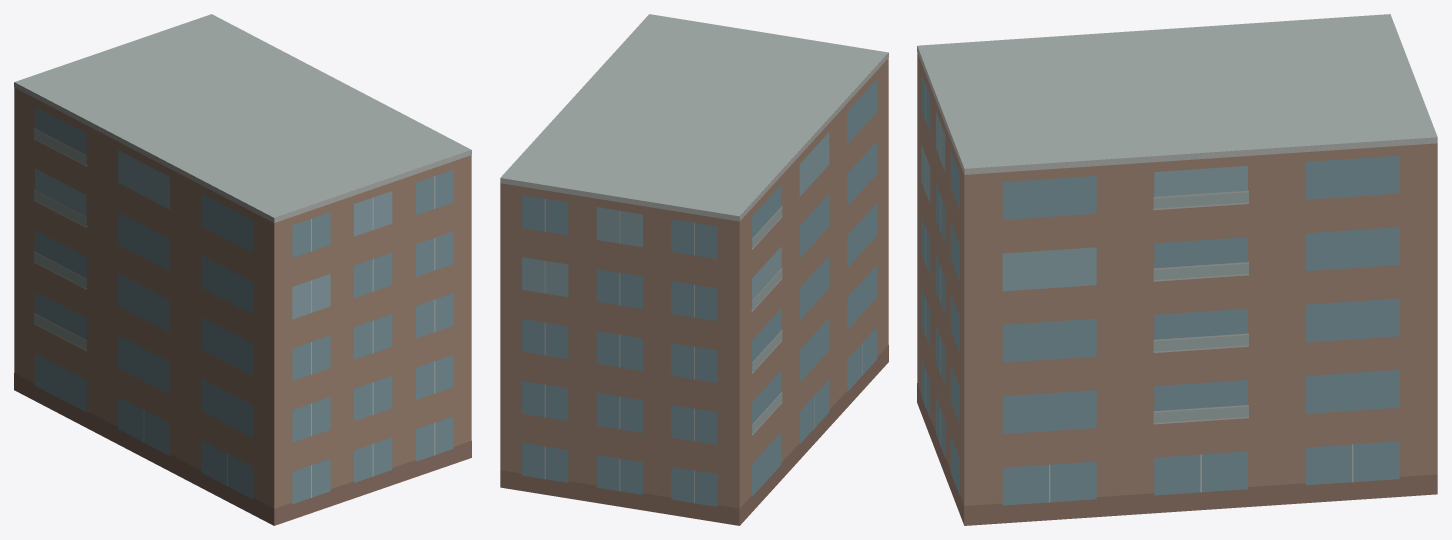
File: survey-upis-32614612.glb
3 views of the same model, side by side, from view 1: azimuth 30°, elevation 25°; view 2: azimuth 150°, elevation 25°; view 3: azimuth 270°, elevation 25° (orthographic). The views are drawn at different scales.
Visible parts, largest first — view 1: survey-upis-32614612.tmp; view 2: survey-upis-32614612.tmp; view 3: survey-upis-32614612.tmp.
Part boxes in pixels (left/top/right/bottom): survey-upis-32614612.tmp: left=14, top=14, right=471, bottom=525; survey-upis-32614612.tmp: left=500, top=14, right=888, bottom=525; survey-upis-32614612.tmp: left=917, top=14, right=1437, bottom=525.
Size of the model in its own units: 13.41 by 14.4 by 19.04.
